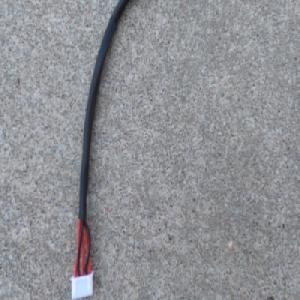Wire: (70, 0, 137, 300)
